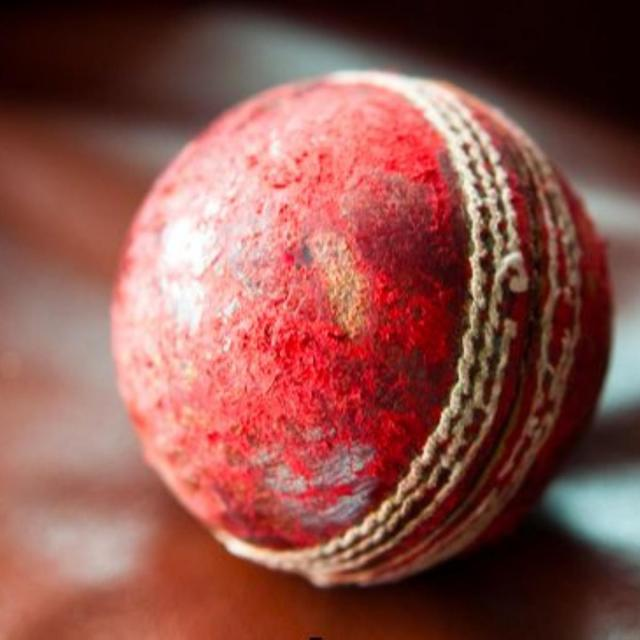ball: (109, 66, 613, 594)
